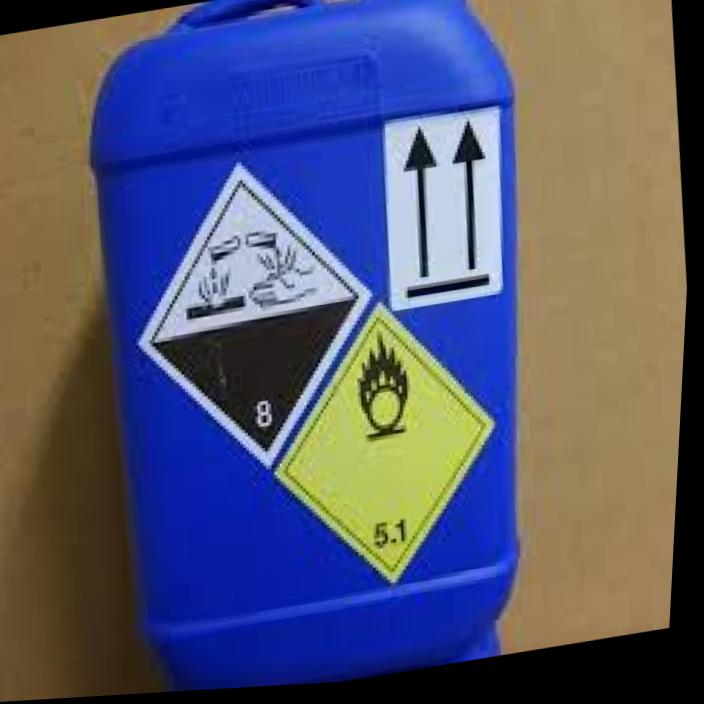defibrillator: (277, 305, 491, 579)
elevator buttons: (143, 163, 366, 462)
